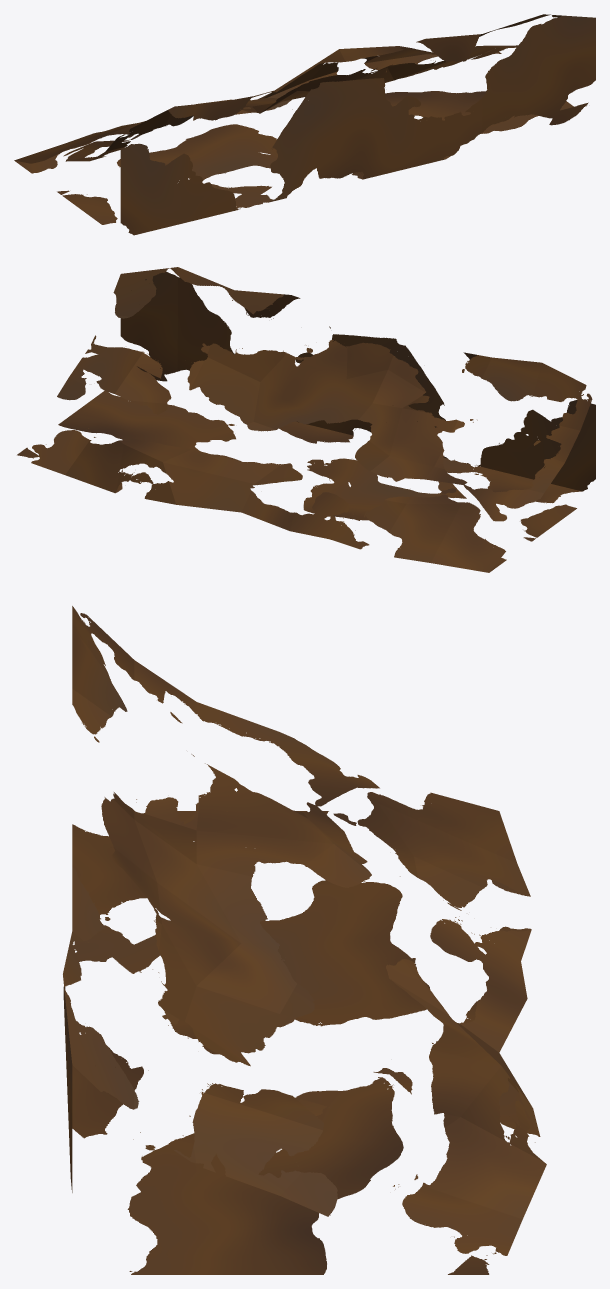
File: Collin_dirtPileCorner_01.fbx
3 renders of one model, top to bottom at view 1: azimuth 30°, elevation 25°; view 2: azimuth 150°, elevation 25°; view 3: azimuth 270°, elevation 25°, orthographic. The views are drawn at different scales.
Visible parts, largest first — view 1: dirtagainst_wall; view 2: dirtagainst_wall; view 3: dirtagainst_wall.
Part boxes in pixels (x1,y1,x2,y2): dirtagainst_wall: [14, 14, 595, 235]; dirtagainst_wall: [17, 267, 595, 572]; dirtagainst_wall: [63, 606, 546, 1274].
Size of the model in its own units: 12.57 by 3.17 by 5.55.
1 material, 1 textured.
